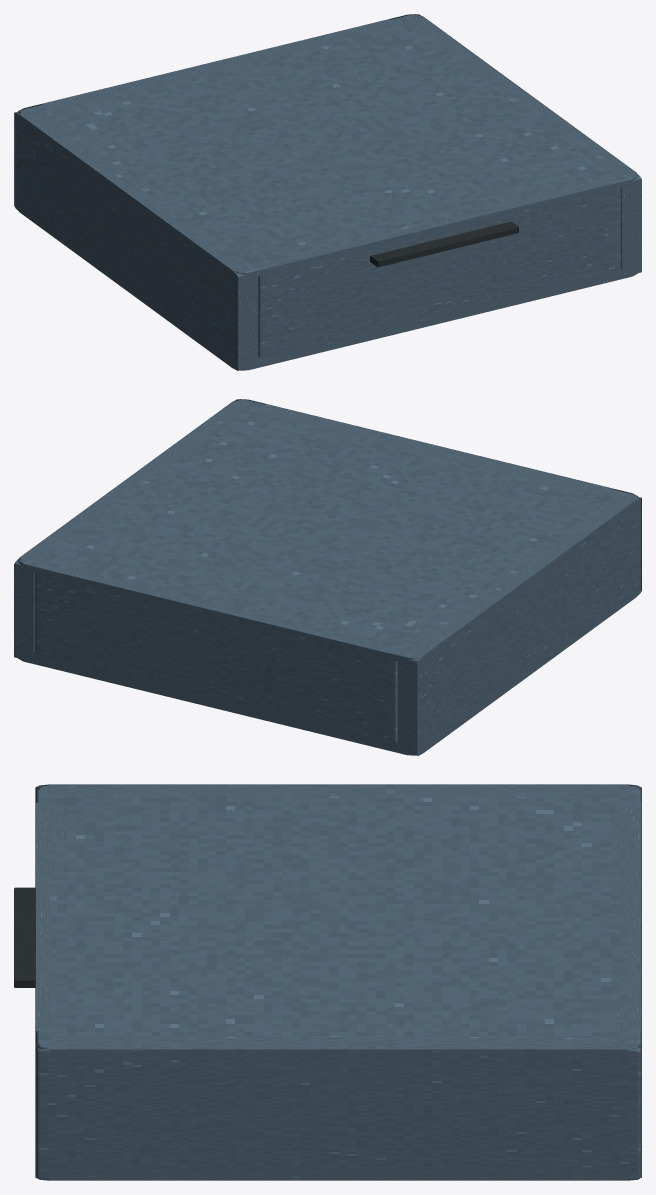
File: game.glb
3 views of the same model, one above another, from view 1: azimuth 30°, elevation 25°; view 2: azimuth 150°, elevation 25°; view 3: azimuth 270°, elevation 25° (orthographic). The views are drawn at different scales.
Parts seen in each view (by area): view 1: lid, edge (×2), side (×2), bottom, grip; view 2: lid, edge (×2), side (×2), bottom; view 3: lid, side (×2), edge (×2), bottom, grip.
Boxes of the visible parts, left/top/right/bottom form: lid: left=18, top=14, right=637, bottom=277; edge (×2): left=42, top=19, right=621, bottom=362; side (×2): left=14, top=14, right=641, bottom=370; bottom: left=19, top=202, right=637, bottom=370; grip: left=370, top=221, right=518, bottom=267; lid: left=18, top=399, right=637, bottom=662; edge (×2): left=34, top=404, right=613, bottom=748; side (×2): left=14, top=399, right=641, bottom=755; bottom: left=18, top=587, right=636, bottom=755; lid: left=35, top=784, right=641, bottom=1057; side (×2): left=35, top=784, right=641, bottom=1180; edge (×2): left=36, top=802, right=641, bottom=1030; bottom: left=49, top=1167, right=627, bottom=1180; grip: left=14, top=887, right=35, bottom=987.
Size of the model in its own units: 0.29 by 0.067 by 0.2898.
2 materials, 2 textured.
